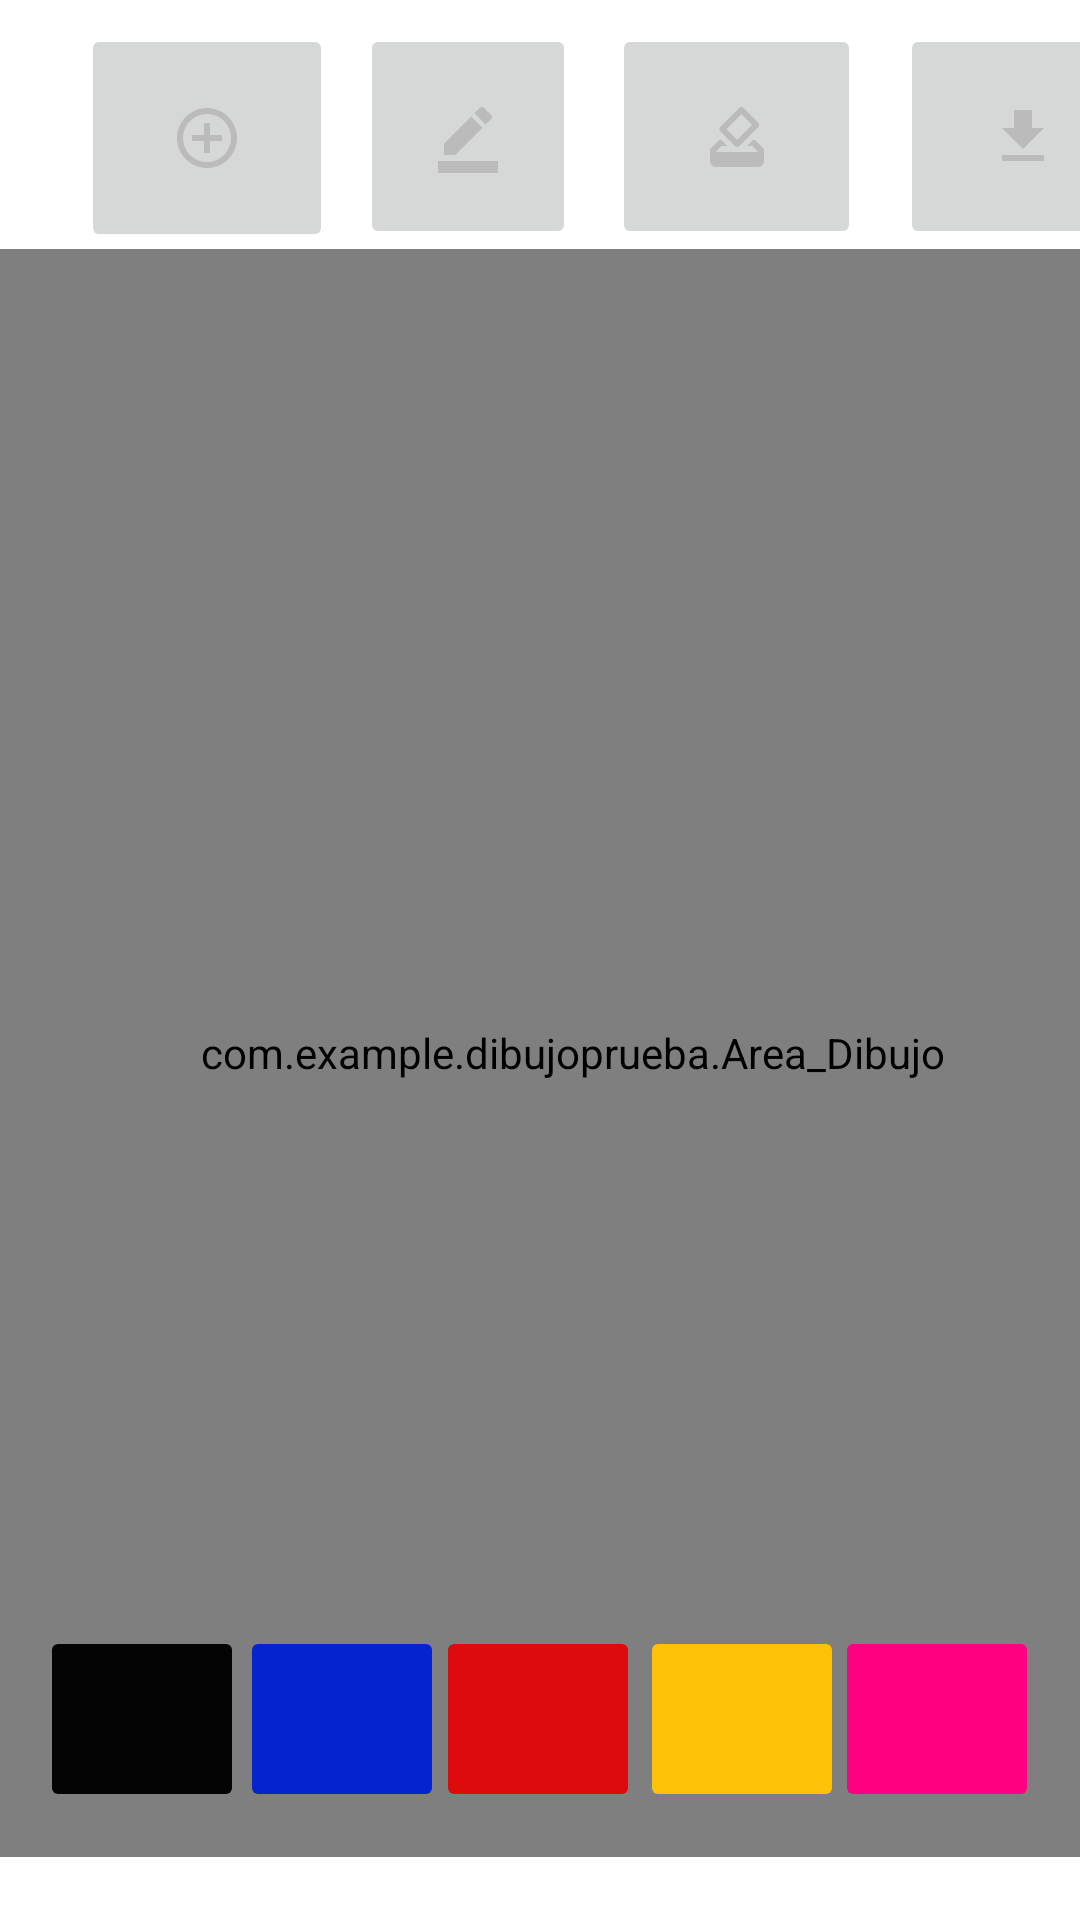

Point at icon controls on the screen. Image size 1080px×1920px, points as (x,y).
control point: (207,138)
how to vote: (736,136)
